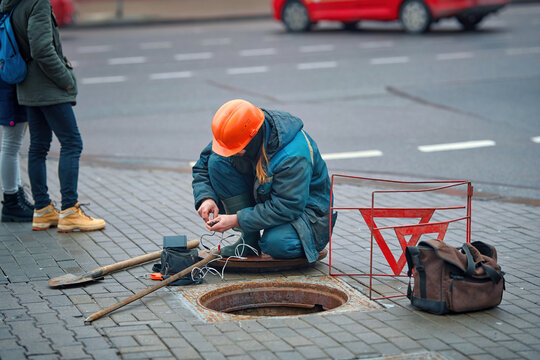open_manhole: (207, 286, 348, 316)
